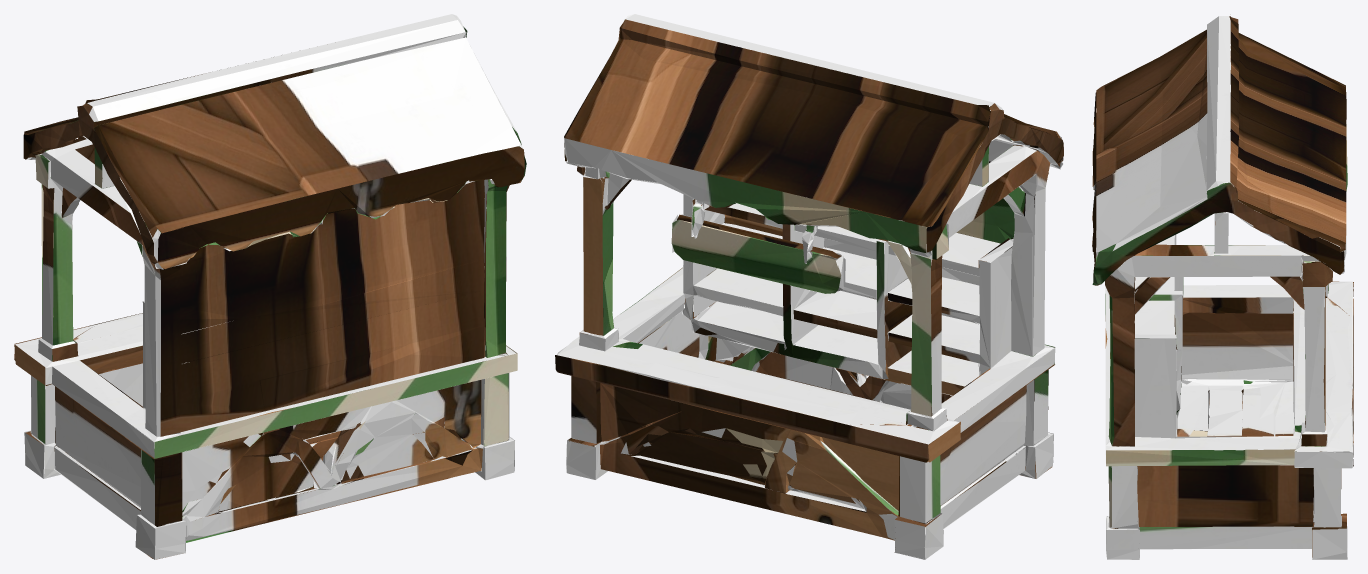
Rendered from SellStand.obj.
3 views of the same model, side by side, from view 1: azimuth 30°, elevation 25°; view 2: azimuth 150°, elevation 25°; view 3: azimuth 270°, elevation 25° (orthographic). The views are drawn at different scales.
Parts seen in each view (by area): view 1: SellStand; view 2: SellStand; view 3: SellStand.
Part boxes in pixels (x1,y1,x2,y2): SellStand: [14, 14, 526, 559]; SellStand: [555, 14, 1063, 559]; SellStand: [1092, 16, 1353, 559].
Size of the model in its own units: 3.36 by 3.52 by 2.18.
